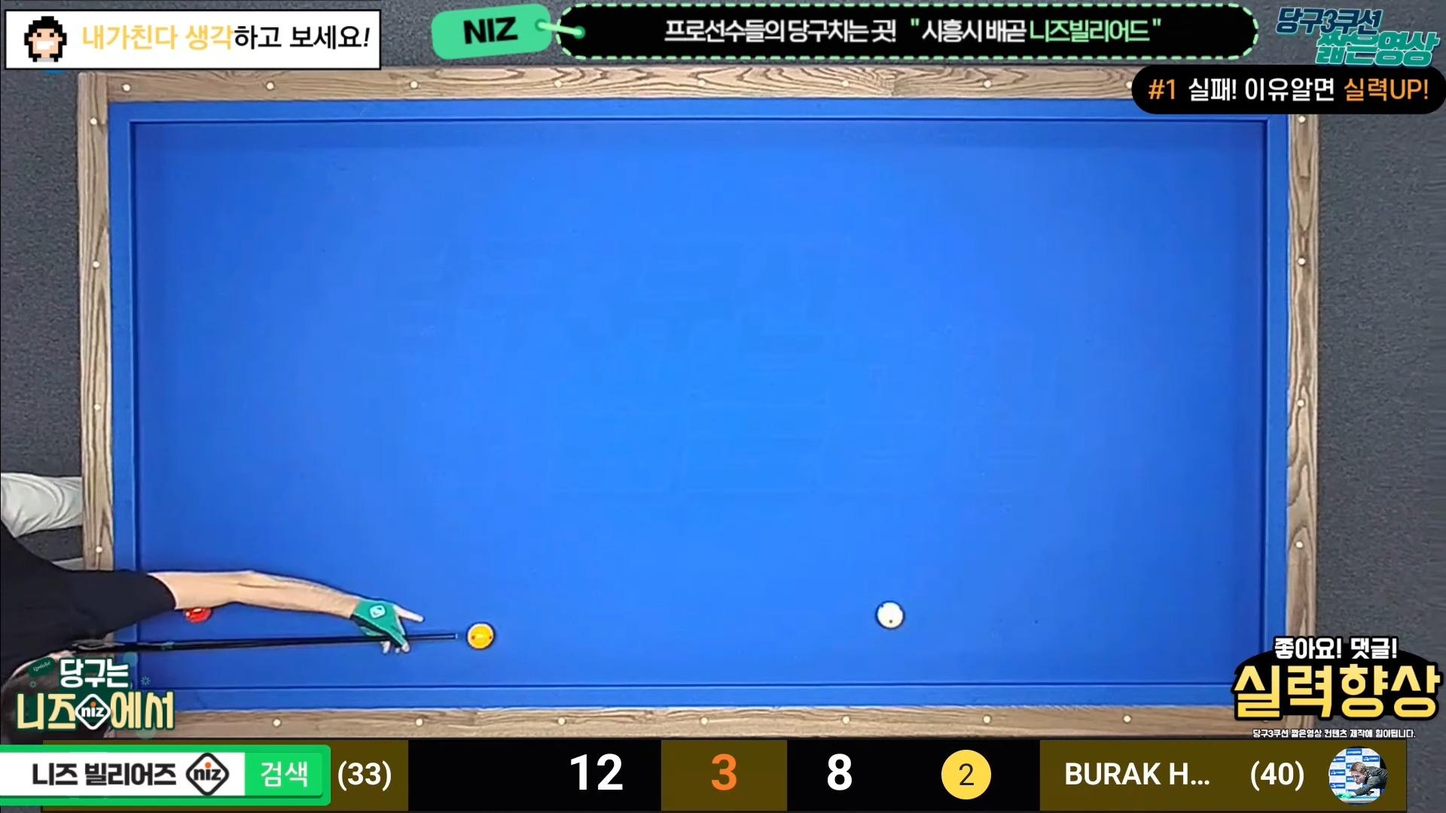-billiard-ball: (874, 600, 905, 630), (465, 622, 494, 650)
White: (875, 601, 906, 627)
Yellow: (465, 623, 499, 651)
